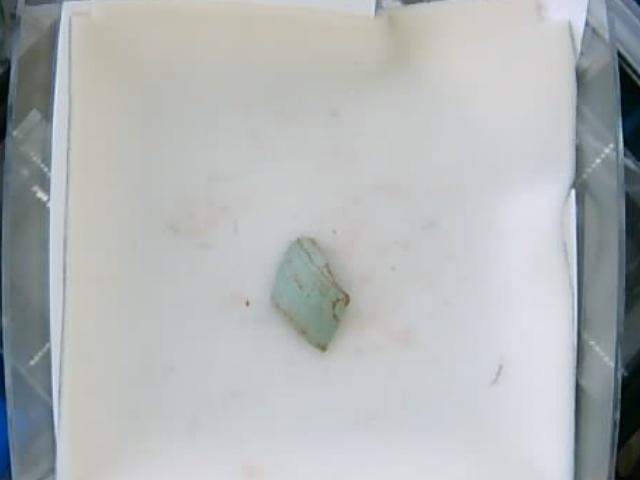China: (269, 240, 348, 350)
